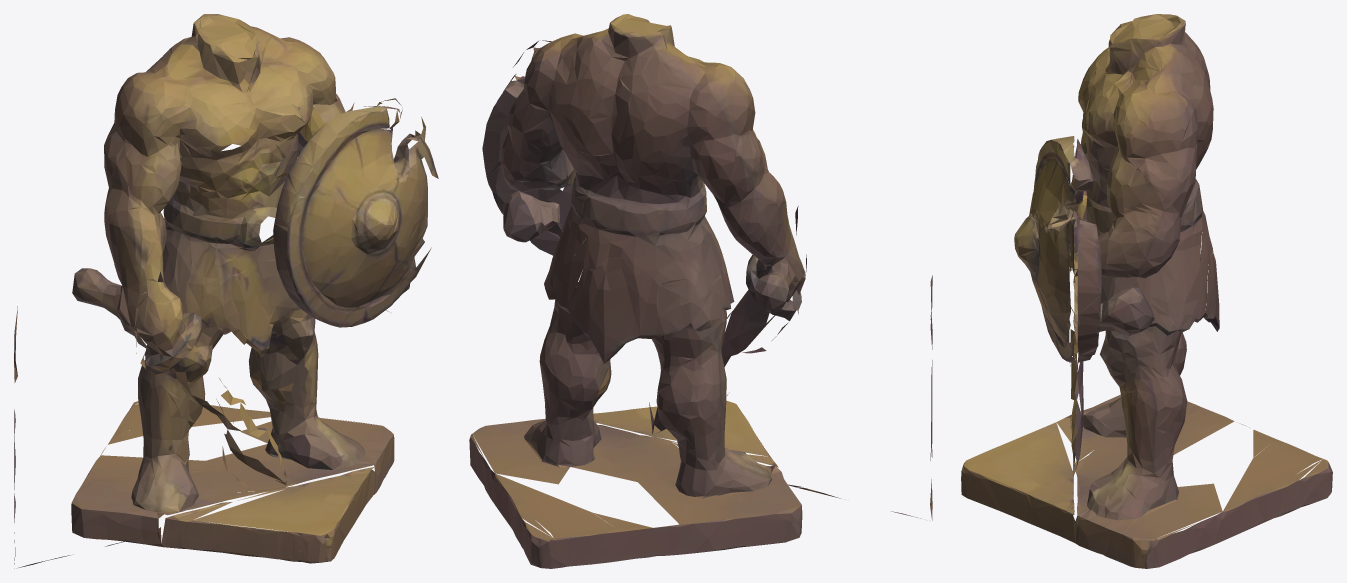
Rendered from statue_orf.glb.
3 renders of one model, left to right at view 1: azimuth 30°, elevation 25°; view 2: azimuth 150°, elevation 25°; view 3: azimuth 270°, elevation 25°, orthographic. The views are drawn at different scales.
Parts seen in each view (by area): view 1: geometry_0; view 2: geometry_0; view 3: geometry_0.
Part boxes in pixels (left/top/right/bottom): geometry_0: left=14, top=14, right=438, bottom=568; geometry_0: left=469, top=14, right=932, bottom=568; geometry_0: left=961, top=14, right=1332, bottom=568.
Bounding box in the file's own units: 2.29 × 2.4 × 1.73.
Materials: 1 (1 with a texture image).
